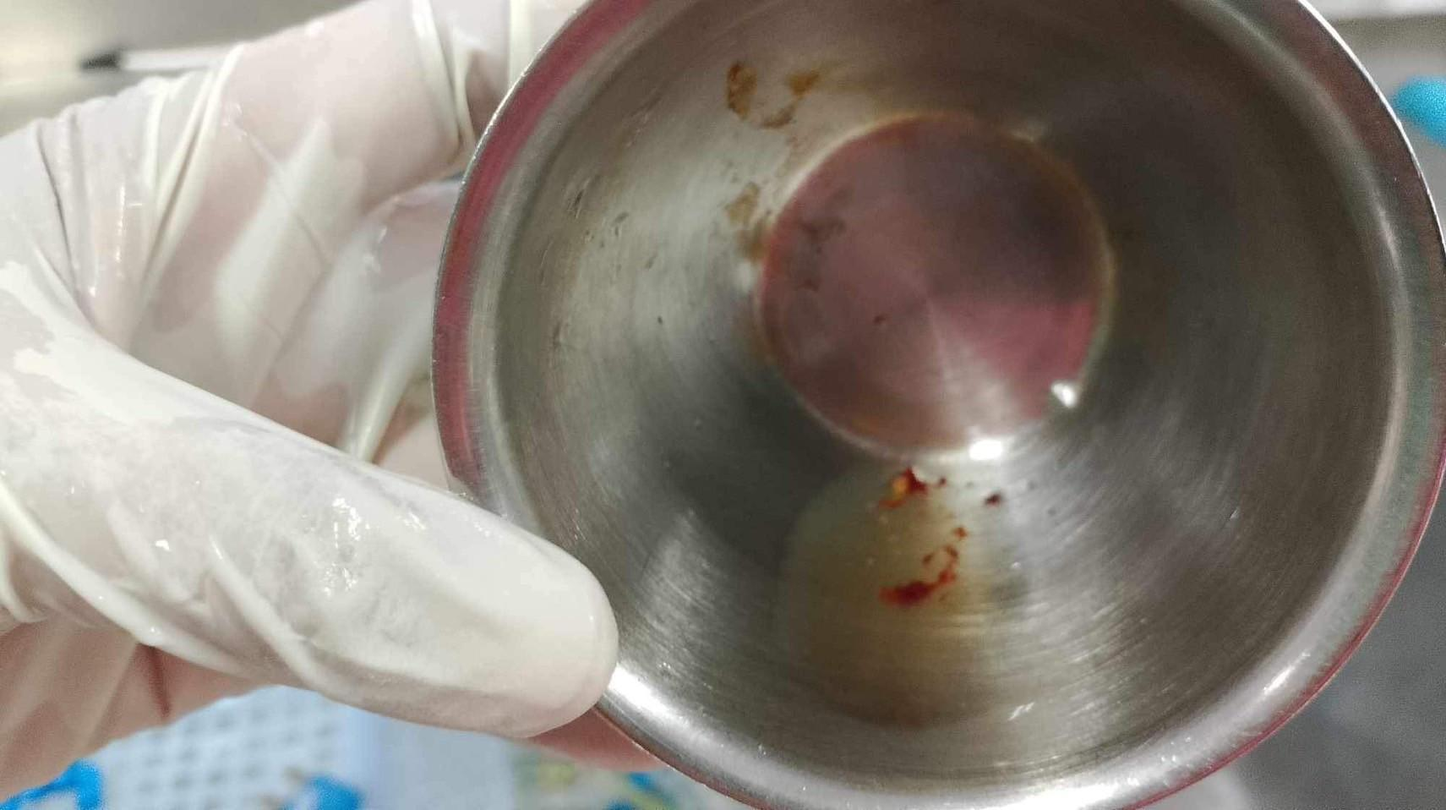General: (424, 2, 1442, 806)
Infectious: (0, 0, 625, 788)
